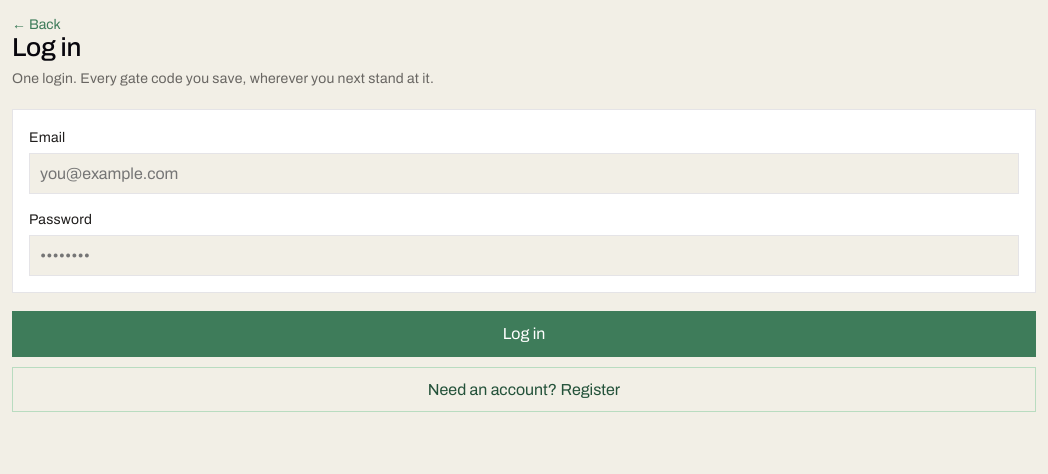
Test: AuthPanel › rejects an empty email or password before hitting the network
This screenshot has width=1048, height=474.
Click the button "Log in". click: (524, 334)
box: [12,311,1036,357]
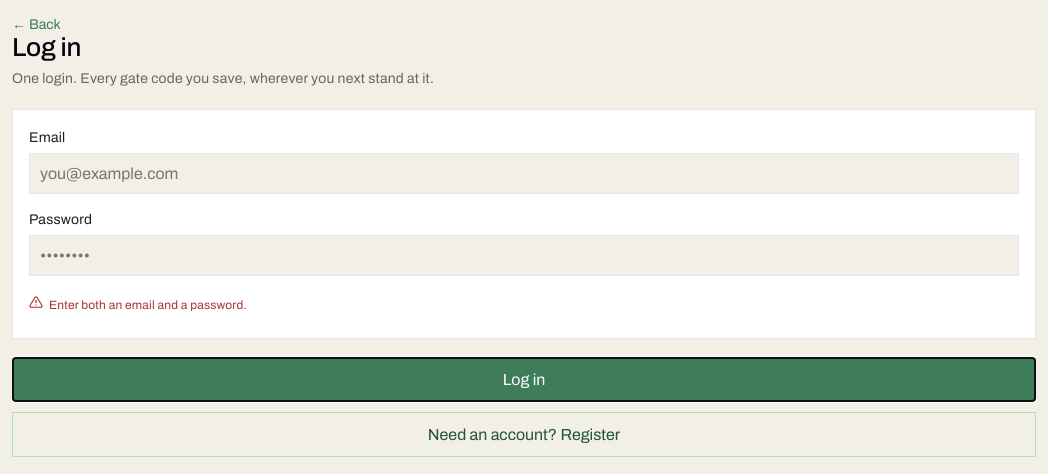
expect the message reads "Enter both an email and a password.": met, box [49,298,247,312]
